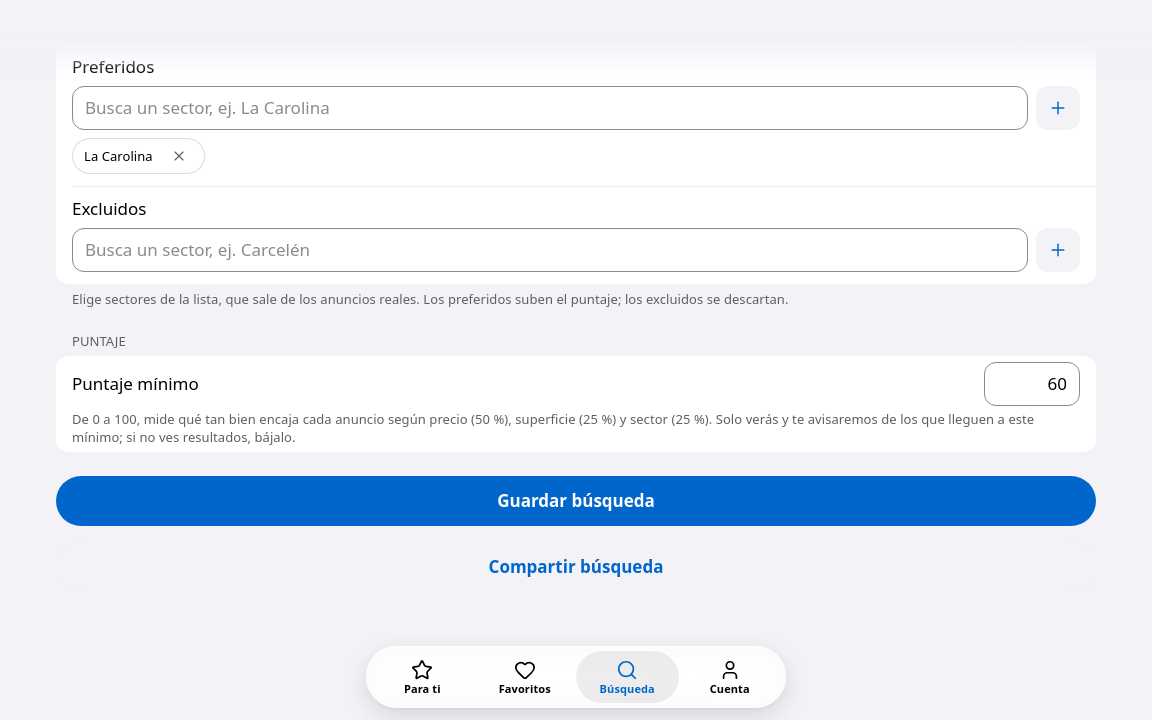
Test case: SearchProfilePage › sharing › tells the user when the link was copied instead of shared
(page scrolled)
Click the button "Compartir búsqueda". click: (576, 567)
box: [56,542,1096,592]
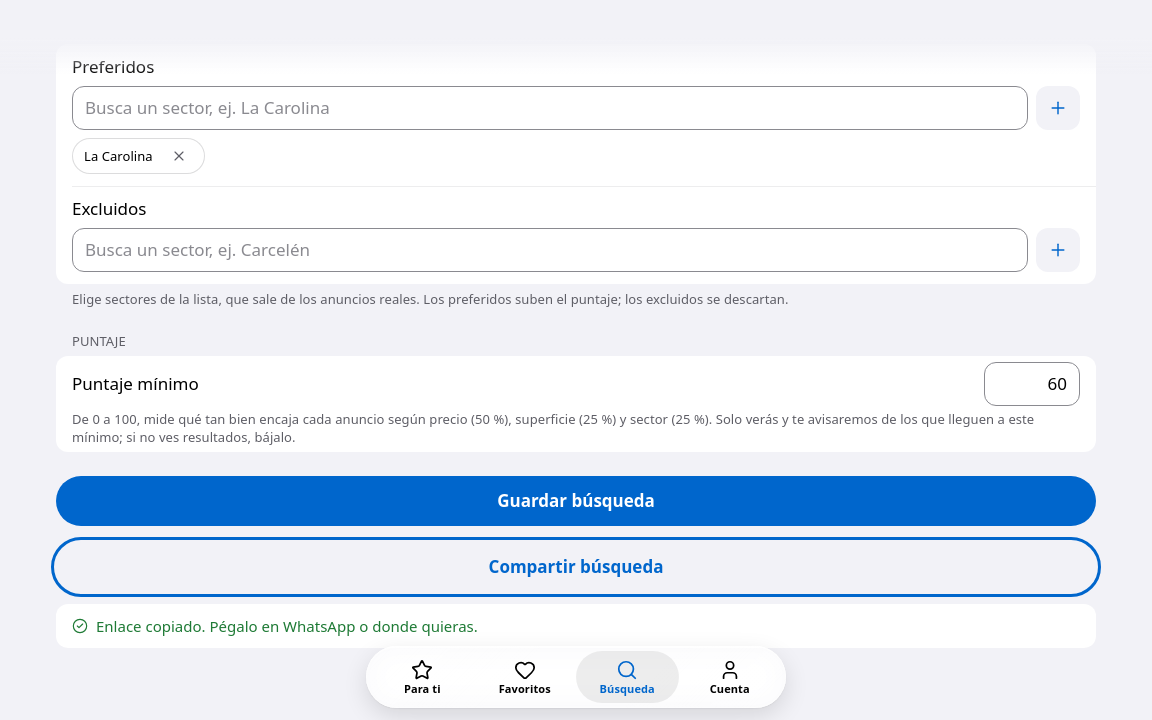
Expected: the message shows "Enlace copiado", [96,616,478,636]
